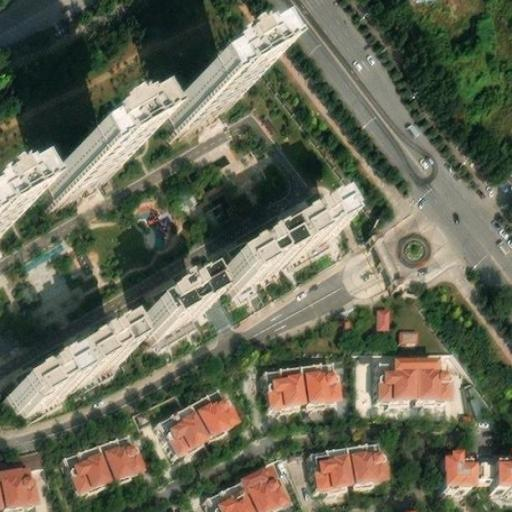building: (8, 328, 129, 414), (224, 202, 342, 286), (39, 136, 112, 194), (161, 67, 235, 124), (135, 283, 201, 335), (238, 455, 291, 509), (62, 436, 115, 490), (158, 398, 210, 450), (190, 381, 239, 432), (99, 424, 145, 474), (200, 472, 257, 512), (306, 442, 354, 488), (264, 357, 306, 400), (380, 350, 420, 395), (347, 436, 386, 481), (301, 352, 342, 394), (442, 441, 485, 481), (420, 349, 453, 394), (0, 474, 39, 511), (485, 441, 512, 478), (370, 306, 387, 332), (394, 327, 417, 345), (151, 502, 181, 512), (400, 501, 422, 512)
